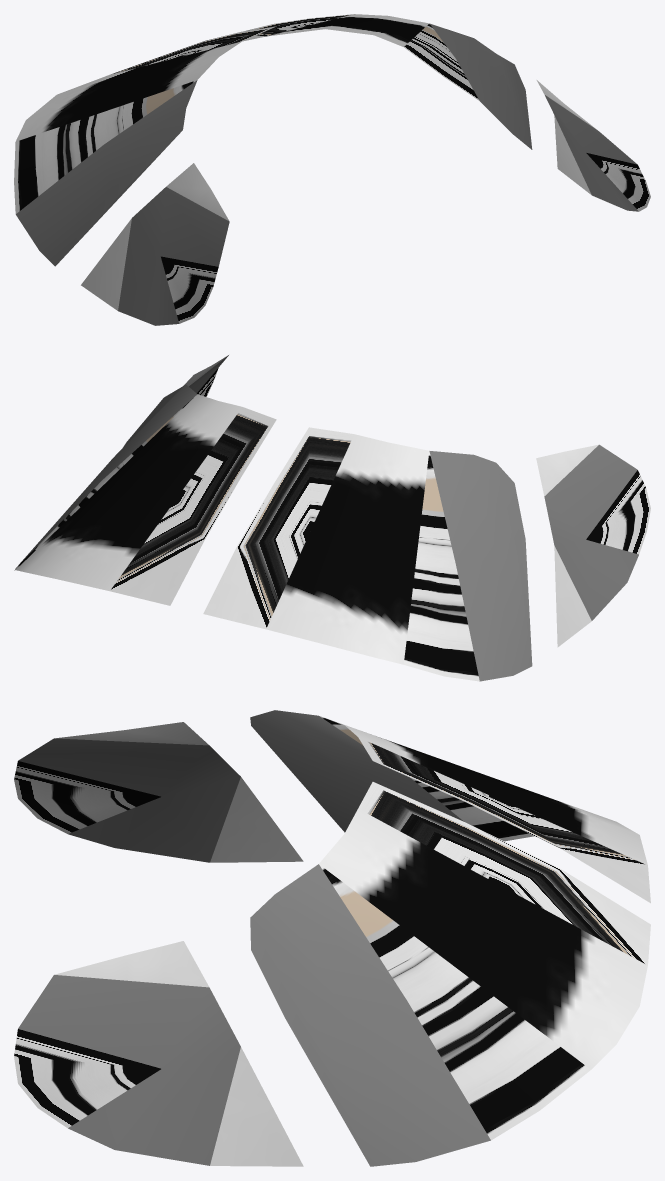
The model's file is mustang_windows.fbx.
3 renders of one model, top to bottom at view 1: azimuth 30°, elevation 25°; view 2: azimuth 150°, elevation 25°; view 3: azimuth 270°, elevation 25°, orthographic. The views are drawn at different scales.
Visible parts, largest first — view 1: WINDOW_left_center, WINDOW_left, WINDOW_right_center, WINDOW_right; view 2: WINDOW_left_center, WINDOW_right_center, WINDOW_left, WINDOW_right; view 3: WINDOW_right_center, WINDOW_right, WINDOW_left, WINDOW_left_center.
Part boxes in pixels (x1,y1,x2,y2): WINDOW_left_center: (14, 26, 276, 266); WINDOW_left: (81, 163, 229, 325); WINDOW_right_center: (243, 14, 532, 149); WINDOW_right: (536, 80, 650, 211); WINDOW_left_center: (203, 427, 532, 681); WINDOW_right_center: (14, 384, 276, 605); WINDOW_left: (536, 444, 650, 647); WINDOW_right: (183, 355, 228, 396); WINDOW_right_center: (250, 782, 650, 1166); WINDOW_right: (14, 941, 303, 1166); WINDOW_left: (14, 722, 303, 862); WINDOW_left_center: (250, 710, 650, 903).
Size of the model in its own units: 152 by 56.63 by 134.
1 material, 1 textured.
